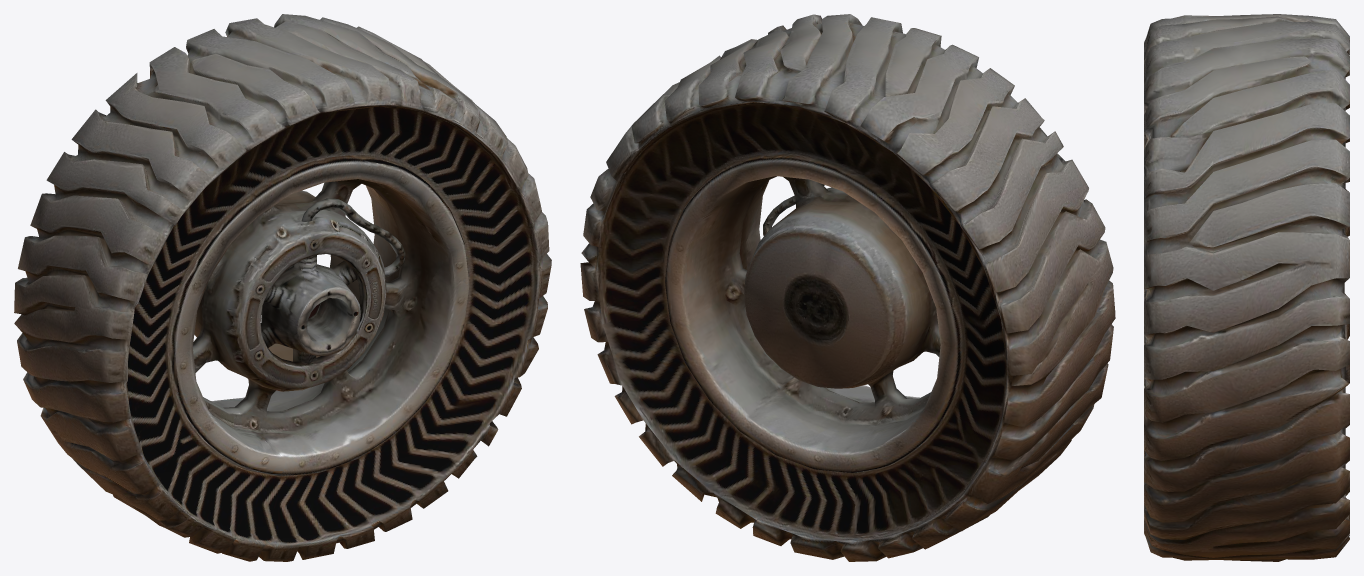
3 renders of one model, left to right at view 1: azimuth 30°, elevation 25°; view 2: azimuth 150°, elevation 25°; view 3: azimuth 270°, elevation 25°, orthographic. The views are drawn at different scales.
Parts seen in each view (by area): view 1: tripo_node_5a5b8fff-b599-4c42-b0cb-37c1061fd29f; view 2: tripo_node_5a5b8fff-b599-4c42-b0cb-37c1061fd29f; view 3: tripo_node_5a5b8fff-b599-4c42-b0cb-37c1061fd29f.
Boxes of the visible parts, x1,y1,x2,y2 form: tripo_node_5a5b8fff-b599-4c42-b0cb-37c1061fd29f: (14, 14, 551, 561); tripo_node_5a5b8fff-b599-4c42-b0cb-37c1061fd29f: (580, 14, 1115, 561); tripo_node_5a5b8fff-b599-4c42-b0cb-37c1061fd29f: (1144, 14, 1349, 561).
Size of the model in its own units: 0.998 by 0.998 by 0.377.
Materials: 1 (1 with a texture image).
